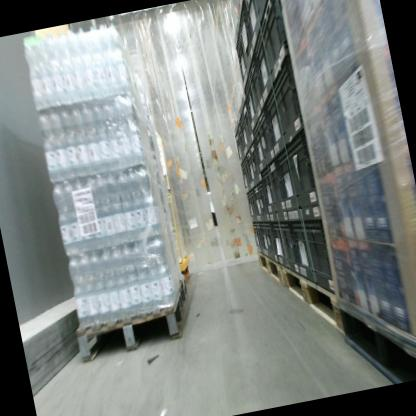pallet: (68, 277, 197, 365), (329, 284, 416, 386), (277, 252, 344, 351), (256, 246, 284, 289)
